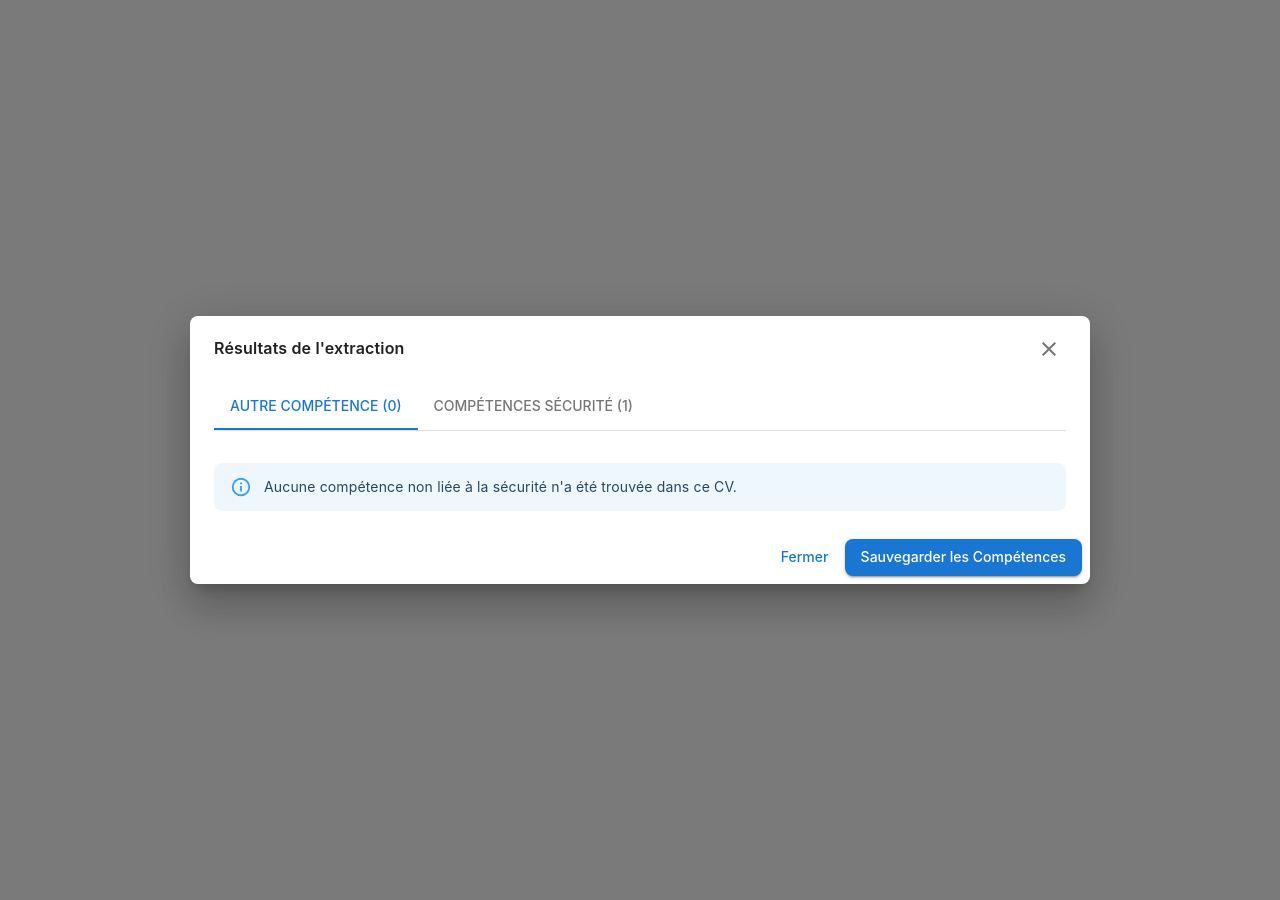
ExtractionResultsDialog › bascule sur l'onglet 'Compétences Sécurité' et affiche la compétence correspondante
The image size is (1280, 900).
Click the tab "Compétences Sécurité (1)": (533, 406) [418,382,649,430]
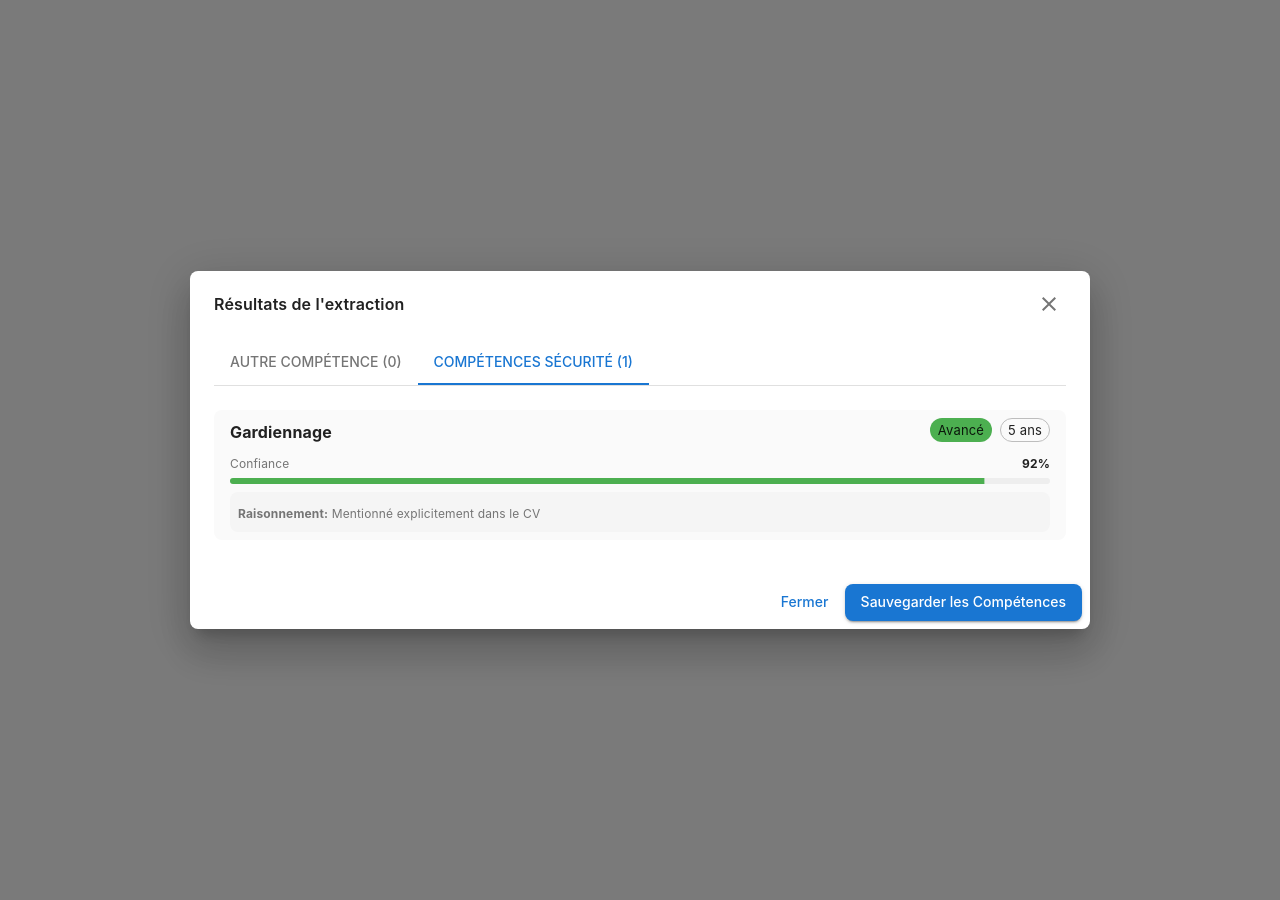
Result: the heading "Gardiennage" is shown at [230,418,332,446]
